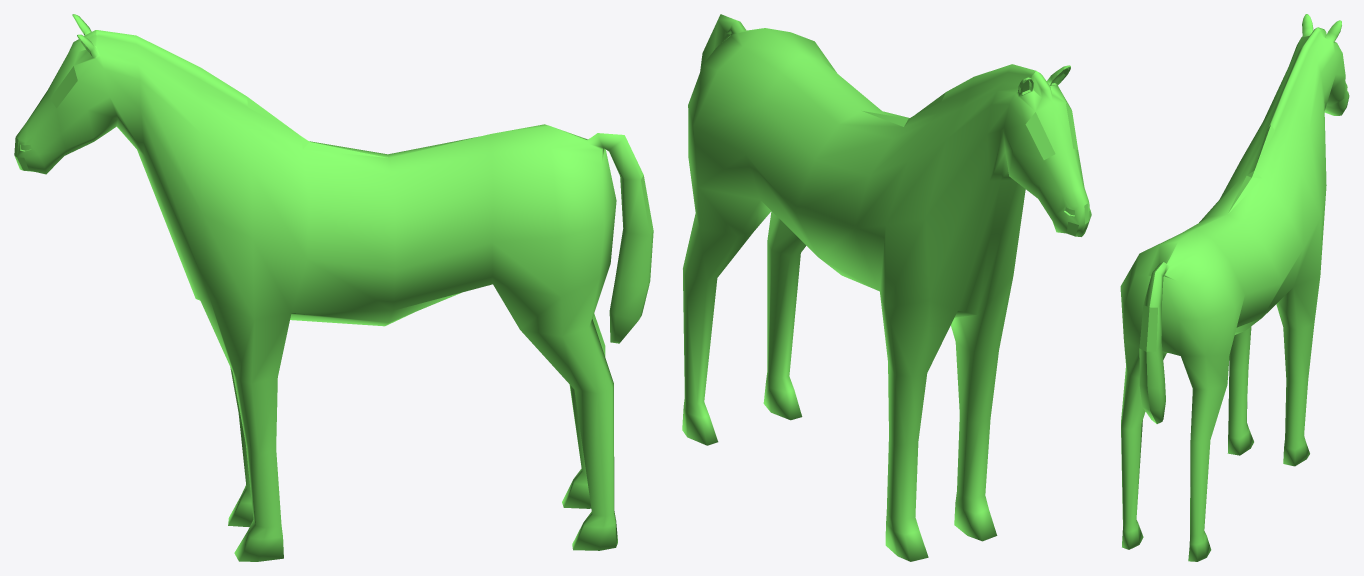
The model's file is ToyObject_066.fbx.
3 renders of one model, left to right at view 1: azimuth 30°, elevation 25°; view 2: azimuth 150°, elevation 25°; view 3: azimuth 270°, elevation 25°, orthographic. The views are drawn at different scales.
Visible parts, largest first — view 1: 1.033; view 2: 1.033; view 3: 1.033.
Part boxes in pixels (<box>): 1.033: <box>14,14,653,561</box>; 1.033: <box>682,14,1091,561</box>; 1.033: <box>1120,14,1349,561</box>.
Bounding box in the file's own units: 0.2205 × 0.2165 × 0.1167.
